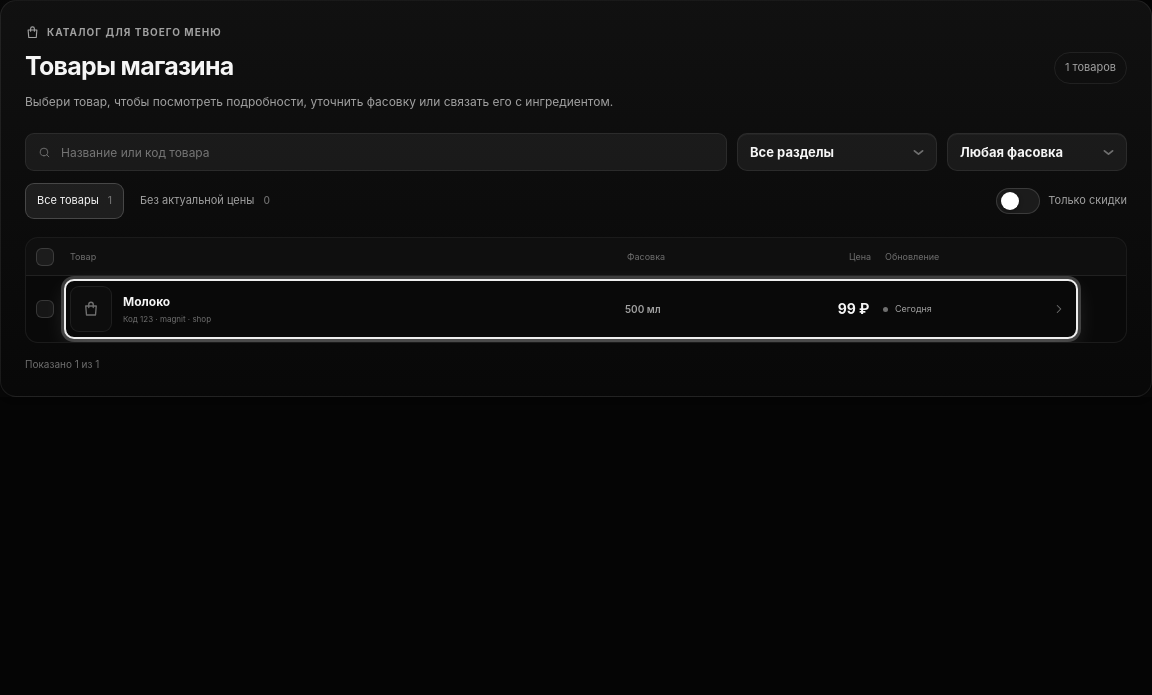
catalog list and side panel › opens product details outside the list and closes with Escape, restoring focus
Click the button "Молоко Код 123 · magnit · shop 500 мл 99 ₽ Сегодня": (91, 309) [66,281,1076,337]
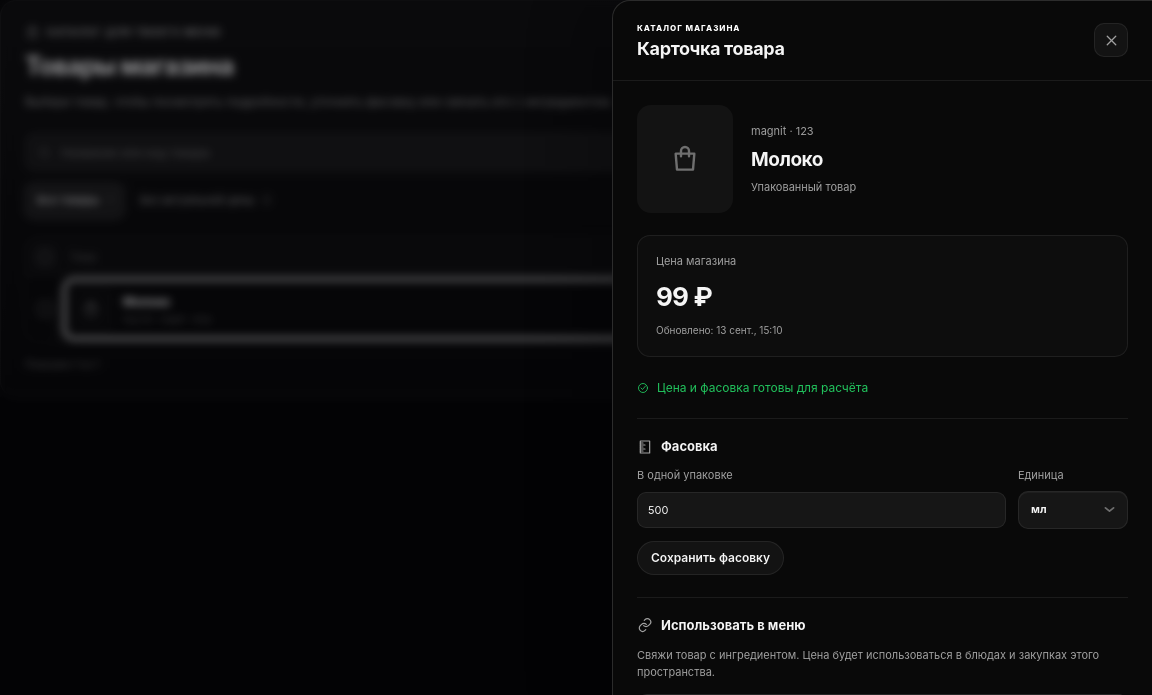
Now the dialog shows "Молоко", box [751,148,823,171]
